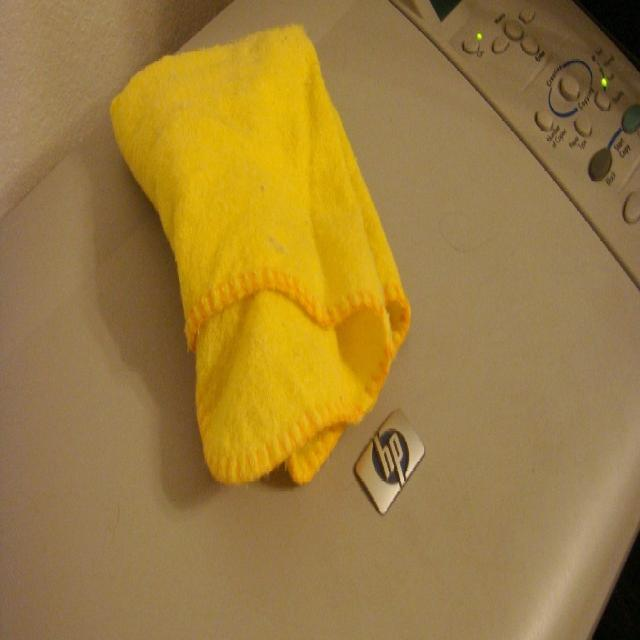HP: (353, 403, 428, 519)
